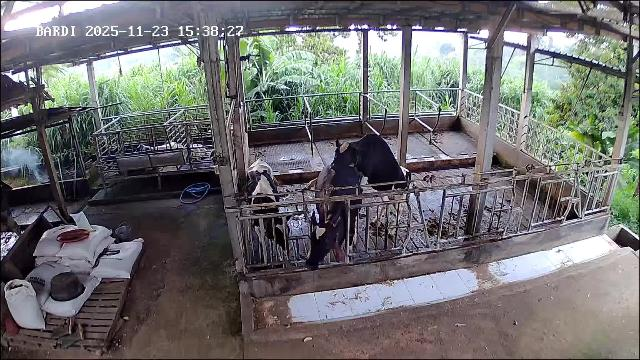mounting: (327, 134, 410, 237)
